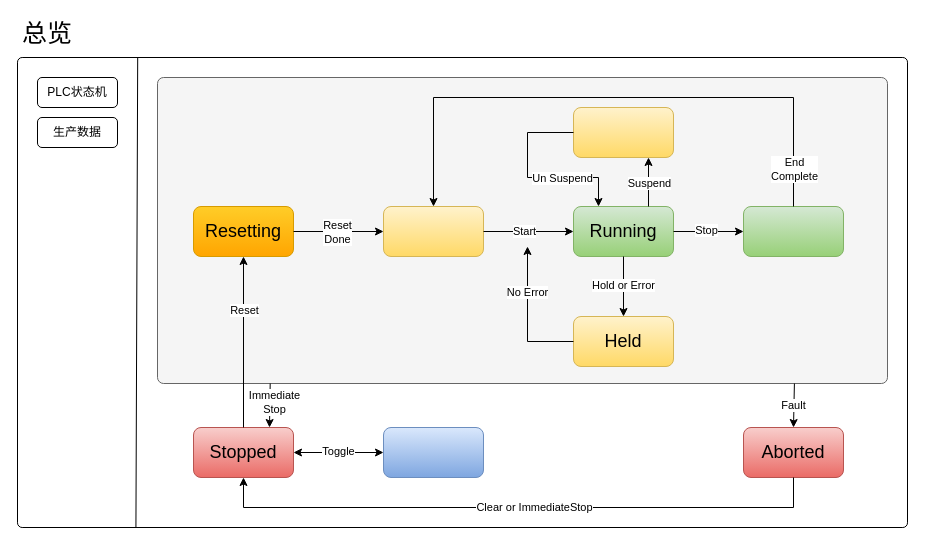
This 925x546 diagram has some shape labels left out. Each missing label, with the centre of its shape:
"Completing" belongs at point 793,231.
"Idle" belongs at point 433,231.
"Manual Control" belongs at point 433,452.
"Suspended" belongs at point 623,132.
